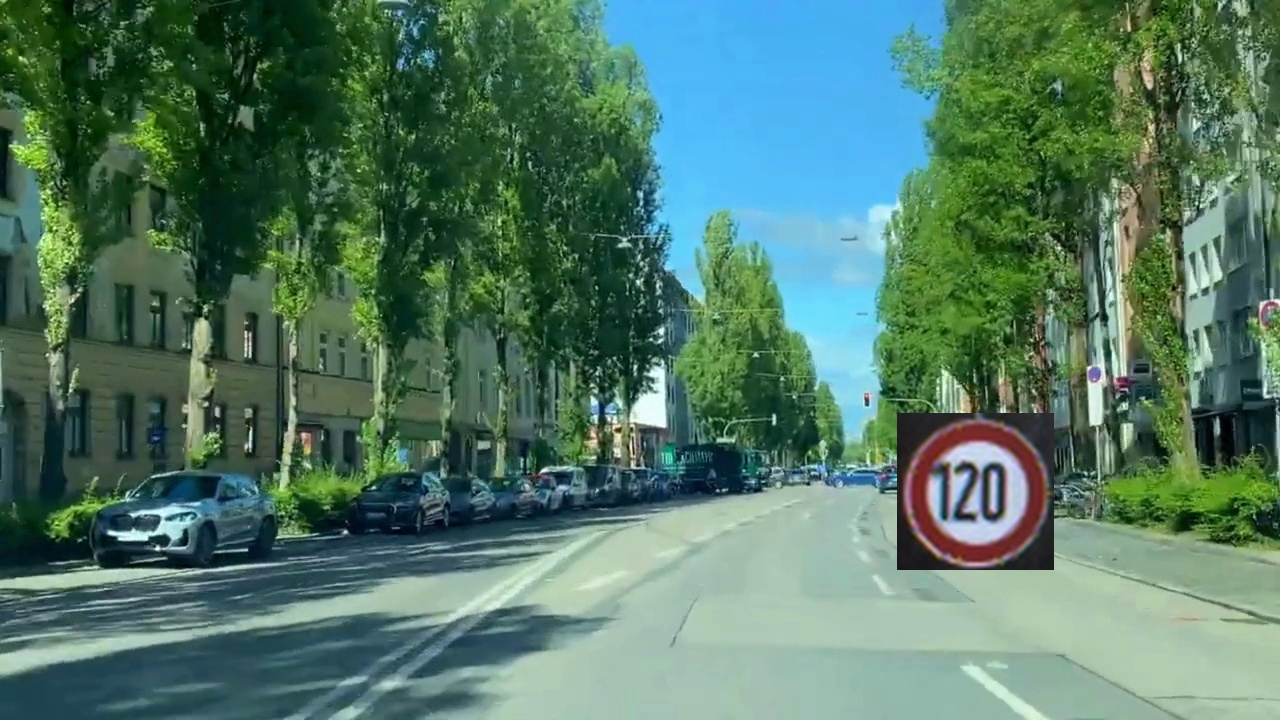Speed 120: (897, 413, 1054, 570)
